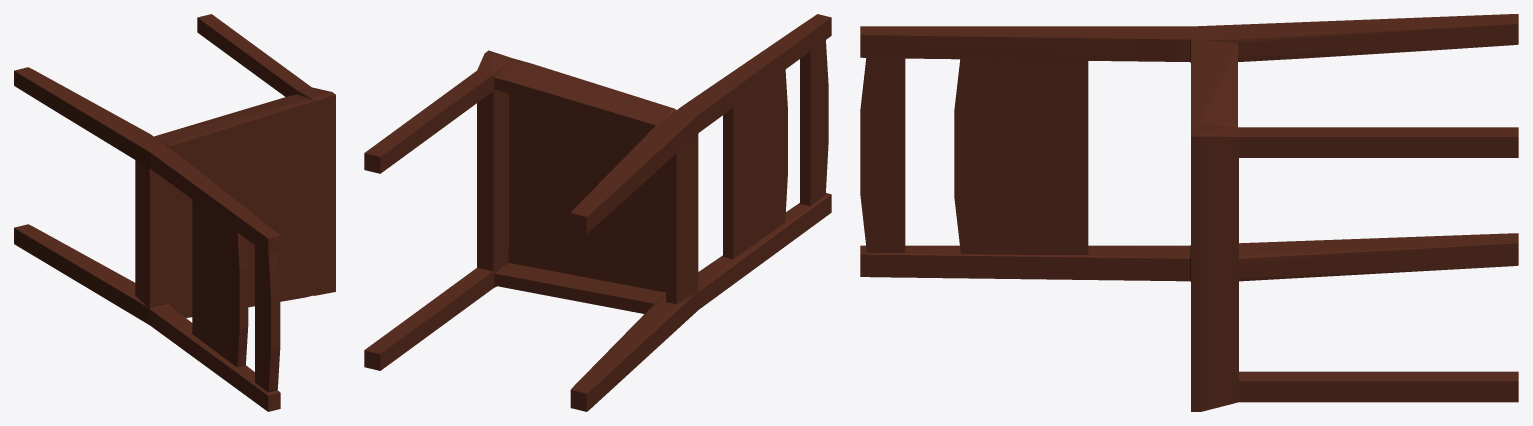
The model's file is JokkmokkChair.obj.
3 views of the same model, side by side, from view 1: azimuth 30°, elevation 25°; view 2: azimuth 150°, elevation 25°; view 3: azimuth 270°, elevation 25° (orthographic). The views are drawn at different scales.
Parts seen in each view (by area): view 1: JokkmokkChair_hull_8, JokkmokkChair_hull_9, JokkmokkChair_hull_10, JokkmokkChair_hull_3, JokkmokkChair_hull_12, JokkmokkChair_hull_5, JokkmokkChair_hull_1, JokkmokkChair_hull_6, JokkmokkChair_hull_4, JokkmokkChair_hull_2, JokkmokkChair_hull_13; view 2: JokkmokkChair_hull_8, JokkmokkChair_hull_9, JokkmokkChair_hull_12, JokkmokkChair_hull_10, JokkmokkChair_hull_5, JokkmokkChair_hull_3, JokkmokkChair_hull_6, JokkmokkChair_hull_1, JokkmokkChair_hull_4, JokkmokkChair_hull_7, JokkmokkChair_hull_13, JokkmokkChair_hull_11 (+1 smaller); view 3: JokkmokkChair_hull_9, JokkmokkChair_hull_12, JokkmokkChair_hull_6, JokkmokkChair_hull_5, JokkmokkChair_hull_1, JokkmokkChair_hull_2, JokkmokkChair_hull_11, JokkmokkChair_hull_13, JokkmokkChair_hull_4, JokkmokkChair_hull_10.
Boxes of the visible parts, bbox=[...] form: JokkmokkChair_hull_8: bbox=[169, 125, 314, 317]; JokkmokkChair_hull_9: bbox=[192, 199, 248, 367]; JokkmokkChair_hull_10: bbox=[154, 94, 314, 157]; JokkmokkChair_hull_3: bbox=[135, 160, 169, 308]; JokkmokkChair_hull_12: bbox=[297, 87, 335, 295]; JokkmokkChair_hull_5: bbox=[14, 67, 168, 168]; JokkmokkChair_hull_1: bbox=[14, 224, 169, 325]; JokkmokkChair_hull_6: bbox=[150, 148, 280, 254]; JokkmokkChair_hull_4: bbox=[255, 245, 280, 392]; JokkmokkChair_hull_2: bbox=[150, 305, 280, 411]; JokkmokkChair_hull_13: bbox=[197, 14, 311, 96]; JokkmokkChair_hull_8: bbox=[508, 93, 665, 292]; JokkmokkChair_hull_9: bbox=[723, 69, 787, 259]; JokkmokkChair_hull_12: bbox=[477, 50, 512, 287]; JokkmokkChair_hull_10: bbox=[494, 58, 676, 134]; JokkmokkChair_hull_5: bbox=[570, 109, 698, 233]; JokkmokkChair_hull_3: bbox=[666, 134, 698, 304]; JokkmokkChair_hull_6: bbox=[678, 14, 831, 132]; JokkmokkChair_hull_1: bbox=[570, 291, 698, 411]; JokkmokkChair_hull_4: bbox=[800, 40, 828, 205]; JokkmokkChair_hull_7: bbox=[494, 263, 665, 313]; JokkmokkChair_hull_13: bbox=[364, 70, 493, 173]; JokkmokkChair_hull_11: bbox=[364, 267, 493, 370]; JokkmokkChair_hull_9: bbox=[954, 59, 1088, 254]; JokkmokkChair_hull_12: bbox=[1191, 124, 1238, 411]; JokkmokkChair_hull_6: bbox=[860, 26, 1189, 61]; JokkmokkChair_hull_5: bbox=[1190, 14, 1518, 62]; JokkmokkChair_hull_1: bbox=[1190, 233, 1518, 281]; JokkmokkChair_hull_2: bbox=[860, 245, 1189, 281]; JokkmokkChair_hull_11: bbox=[1239, 371, 1518, 402]; JokkmokkChair_hull_13: bbox=[1239, 127, 1518, 157]; JokkmokkChair_hull_4: bbox=[860, 58, 905, 252]; JokkmokkChair_hull_10: bbox=[1191, 39, 1237, 126].
Size of the model in its own units: 0.5524 by 0.5091 by 1.1.
